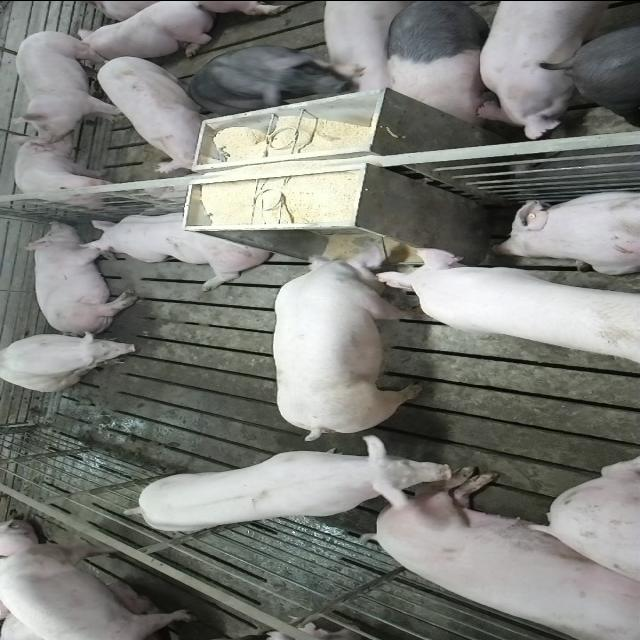Feeding: (367, 246, 632, 364), (279, 242, 433, 440)
Lateral_lying: (20, 222, 142, 334)
Sitting: (1, 329, 142, 391)
Standing: (123, 437, 423, 537), (476, 2, 638, 140), (0, 540, 198, 640), (12, 27, 136, 146), (384, 2, 502, 126), (96, 51, 220, 169), (186, 42, 352, 108), (541, 16, 640, 126), (317, 0, 425, 94), (13, 132, 130, 204)
Sternal_lying: (80, 208, 274, 286), (493, 186, 640, 272), (67, 1, 214, 59)
